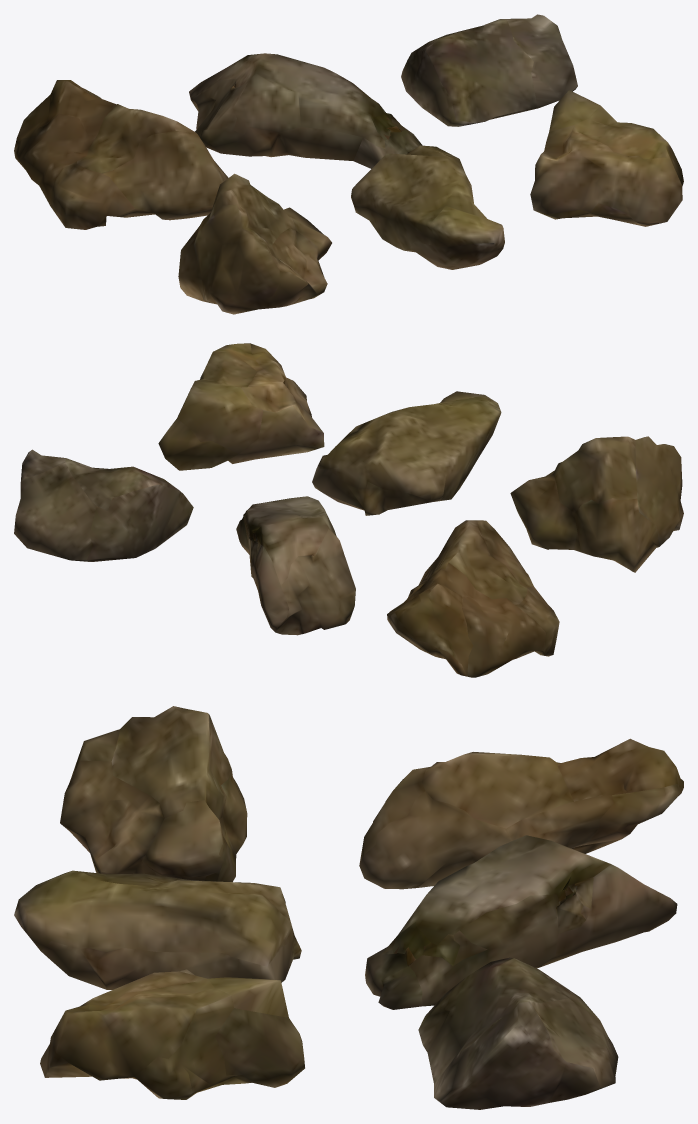
File: rocher_mousse_lod1.glb
The picture shows the model from 3 angles, top to bottom: view 1: azimuth 30°, elevation 25°; view 2: azimuth 150°, elevation 25°; view 3: azimuth 270°, elevation 25°; orthographic projection. The views are drawn at different scales.
Visible parts, largest first — view 1: rock_moss_set_01_rock01; view 2: rock_moss_set_01_rock01; view 3: rock_moss_set_01_rock01.
Part boxes in pixels (left/top/right/bottom): rock_moss_set_01_rock01: left=14, top=14, right=683, bottom=314; rock_moss_set_01_rock01: left=14, top=343, right=683, bottom=677; rock_moss_set_01_rock01: left=14, top=706, right=683, bottom=1109.
Bounding box in the file's own units: 8 × 1.76 × 6.94.
Materials: 1 (1 with a texture image).
